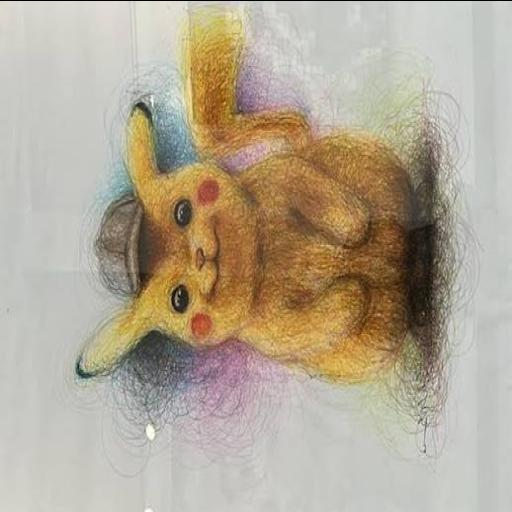Pikachu: (77, 10, 429, 386)
